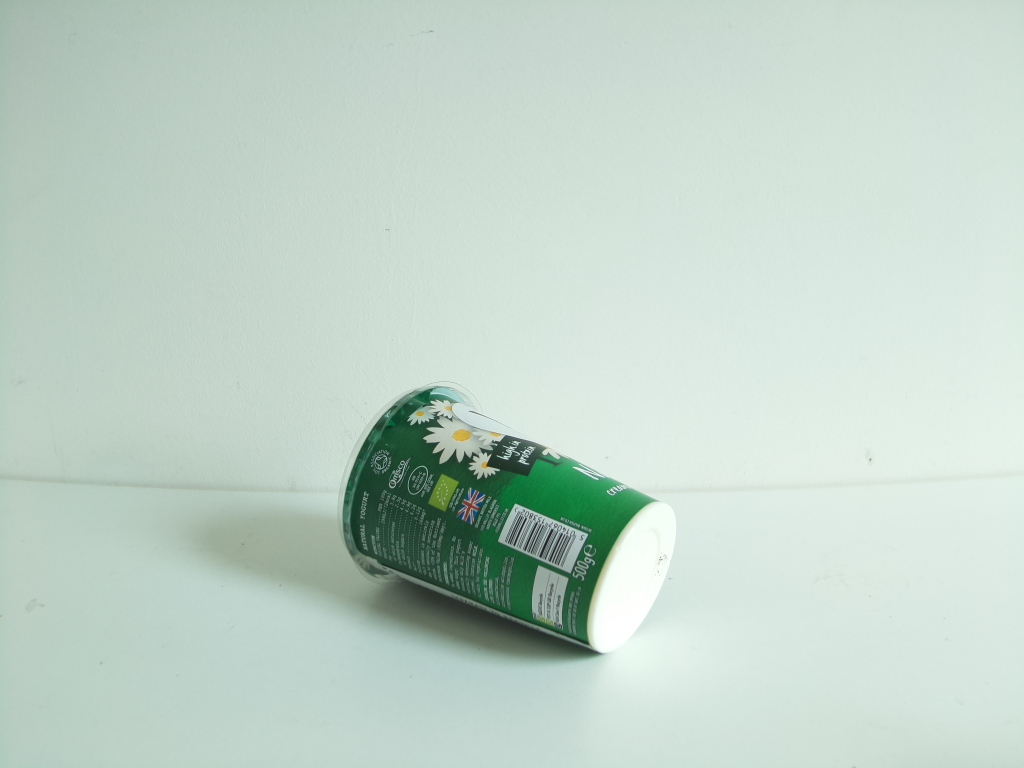yogurt: (326, 373, 687, 668)
